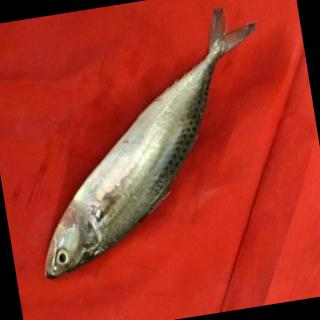Ikan: (1, 1, 299, 293)
